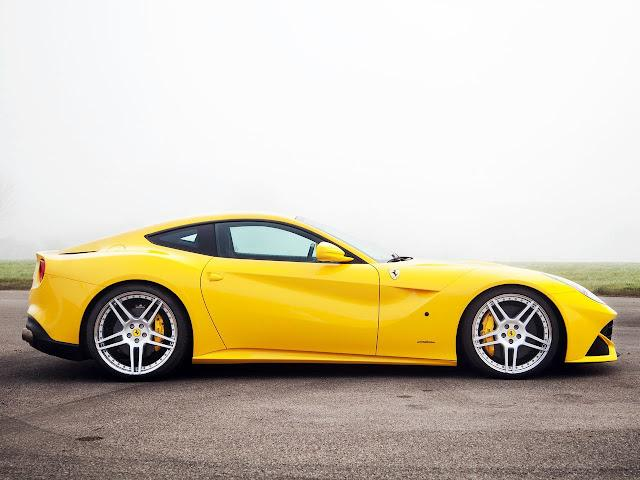small: (21, 210, 619, 381)
